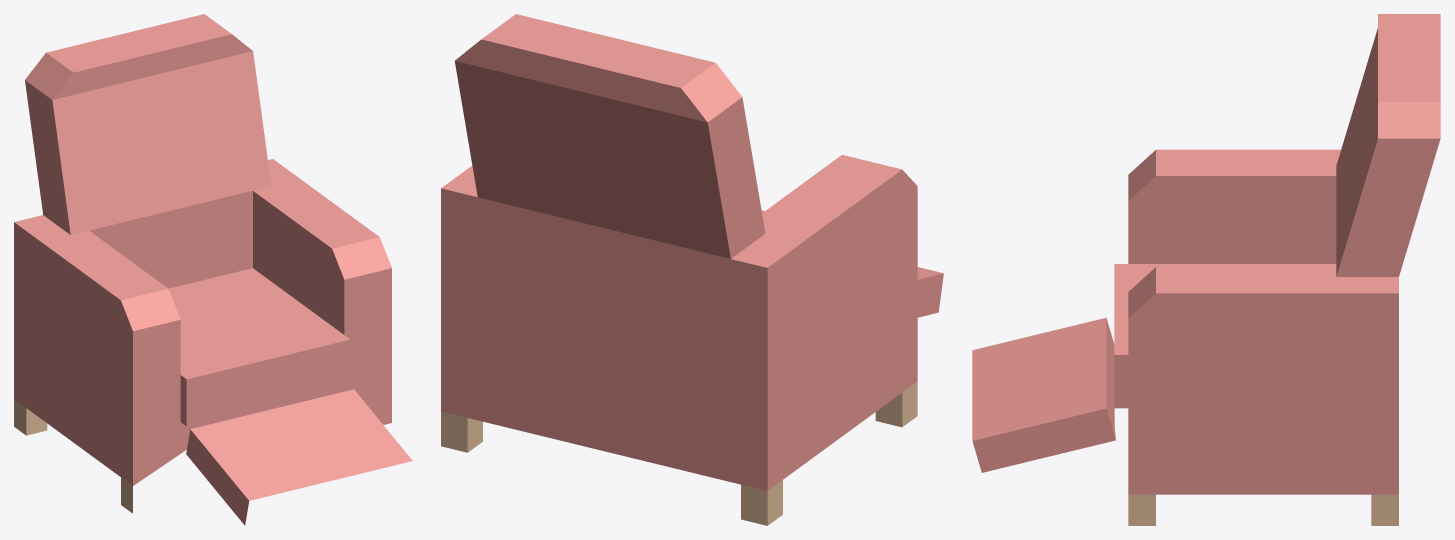
File: loungeChairUpright.glb
The picture shows the model from 3 angles, left to right: view 1: azimuth 30°, elevation 25°; view 2: azimuth 150°, elevation 25°; view 3: azimuth 270°, elevation 25°; orthographic projection. The views are drawn at different scales.
Visible parts, largest first — view 1: loungeChairRelax(Clone); view 2: loungeChairRelax(Clone); view 3: loungeChairRelax(Clone).
Part boxes in pixels (x1,y1,x2,y2): loungeChairRelax(Clone): (14,14,412,525); loungeChairRelax(Clone): (441,14,943,525); loungeChairRelax(Clone): (972,14,1440,525).
Bounding box in the file's own units: 0.49 × 0.63 × 0.6747.
